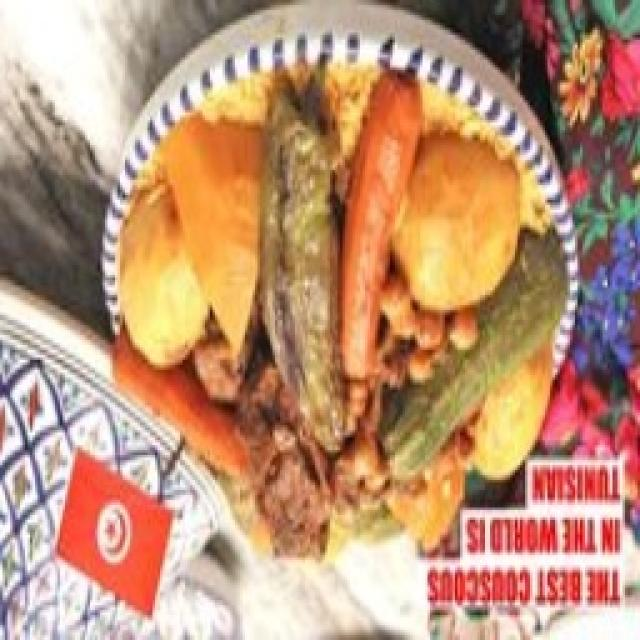Couscous: (116, 61, 568, 559)
